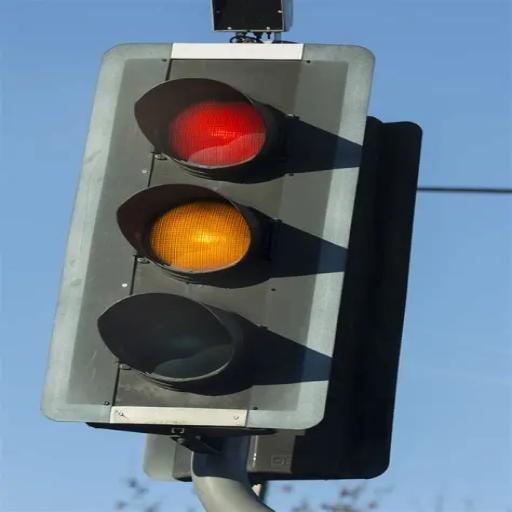car: (39, 40, 421, 485)
